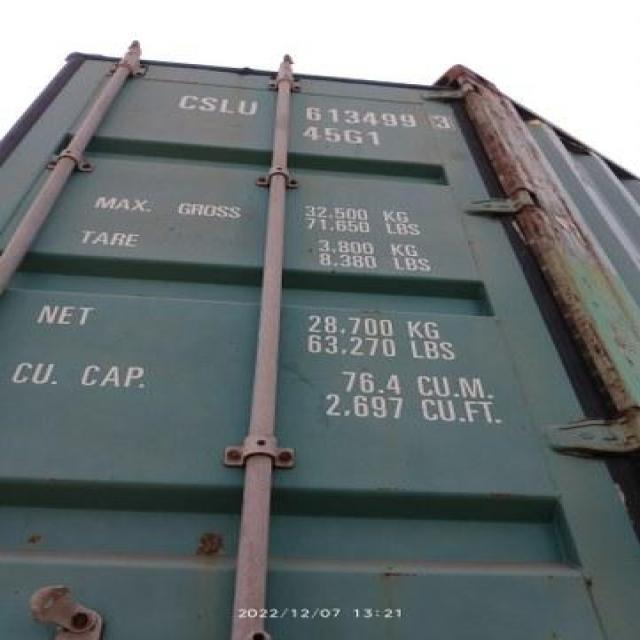container_number_h: (171, 73, 467, 173)
